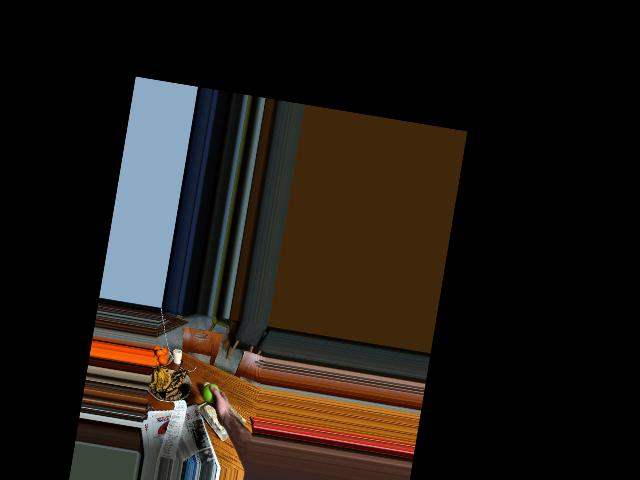apple: (199, 380, 223, 406)
